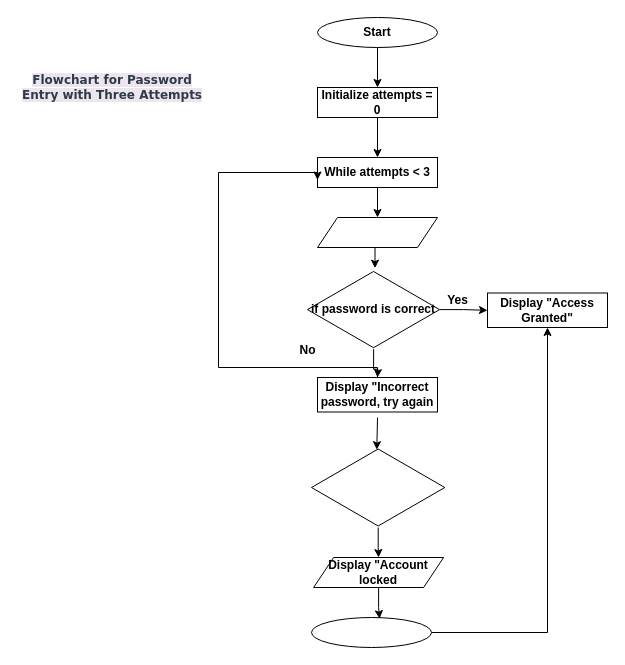
This 625x665 diagram has some shape labels left out. The box of each missing label's shape, as (x1, y1, x2, y2) in pixels:
Exit Program: (310, 616, 432, 648)
If attempts = 3:: (310, 446, 445, 528)
Input password: (316, 216, 438, 248)
